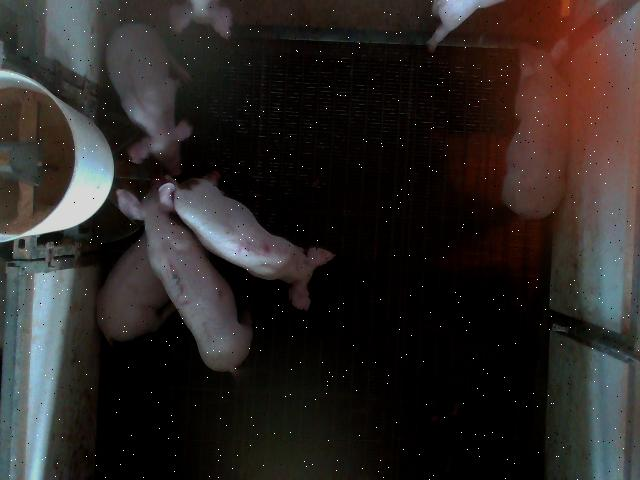pig-3: (118, 179, 250, 372)
pig-4: (502, 41, 568, 219)
pig-5: (174, 179, 335, 310)
